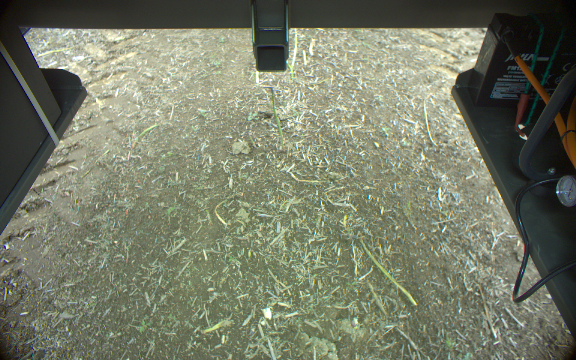aspa: (358, 238, 416, 309), (266, 86, 286, 142), (290, 27, 299, 68), (286, 58, 294, 81)
